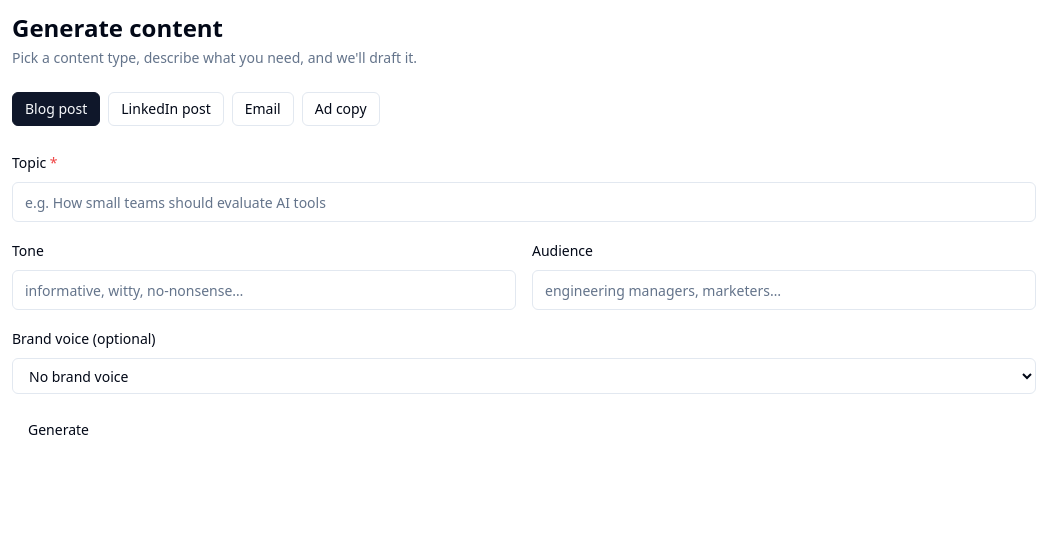
Test: GenerateForm › submits valid input and shows staged loader while pending
The width and height of the screenshot is (1048, 545).
Type "A meaningful topic" into the field with test id "generate-topic" at (524, 202), box top-left (12, 182), bottom-right (1036, 222)
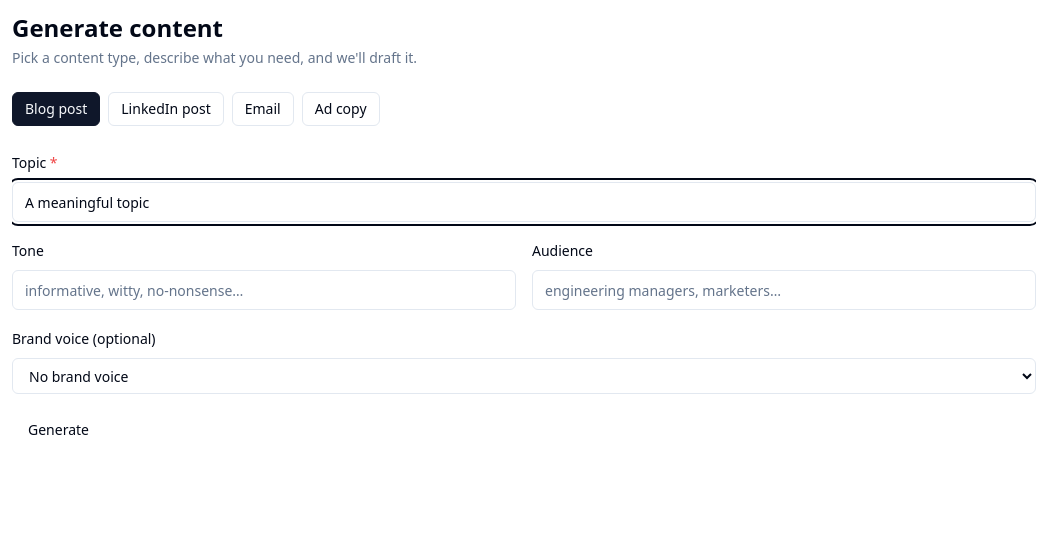
Type "informative" into the field with test id "generate-tone" at (264, 290), box top-left (12, 270), bottom-right (516, 310)
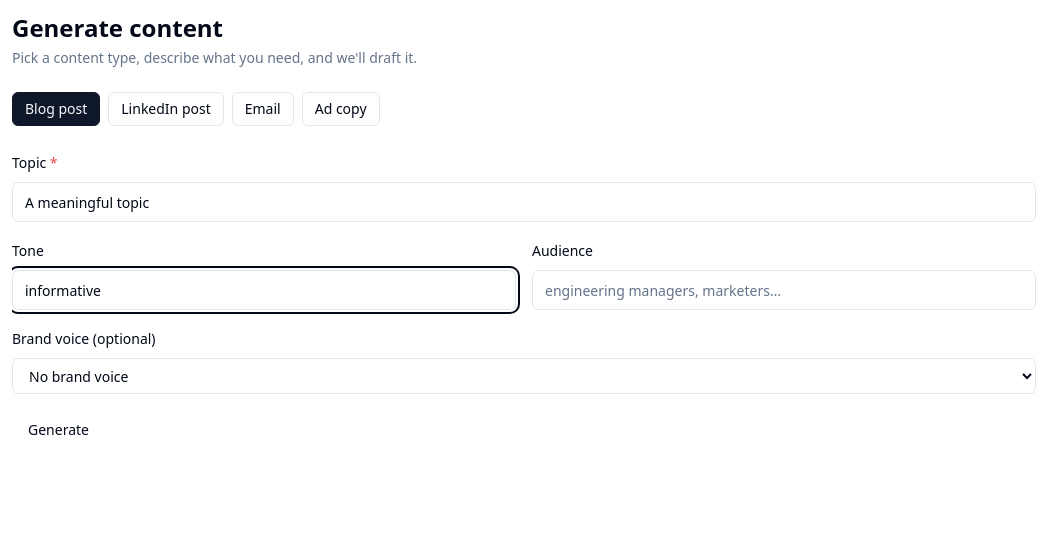
Click the button with test id "generate-submit" at (58, 430), box top-left (12, 410), bottom-right (105, 450)
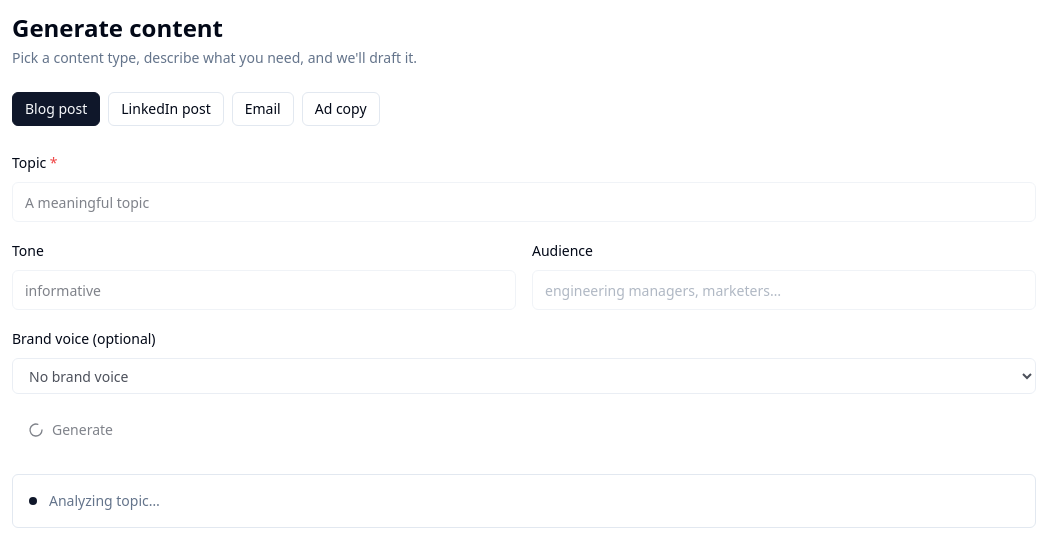
Now the text "Analyzing topic…" is shown, box top-left (49, 491), bottom-right (160, 511)
